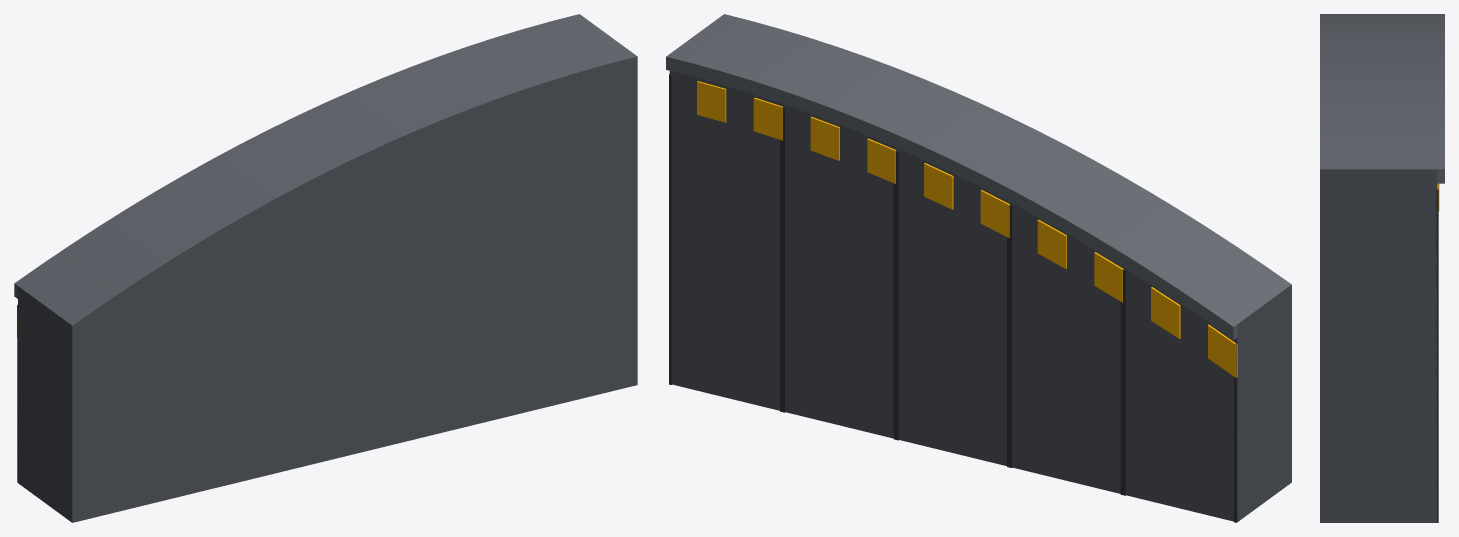
3 views of the same model, side by side, from view 1: azimuth 30°, elevation 25°; view 2: azimuth 150°, elevation 25°; view 3: azimuth 270°, elevation 25° (orthographic). The views are drawn at different scales.
Visible parts, largest first — view 1: e2w; view 2: e2w; view 3: e2w.
Part boxes in pixels (x1,y1,x2,y2): e2w: (14, 14, 637, 522); e2w: (666, 14, 1291, 522); e2w: (1320, 14, 1444, 522).
Size of the model in its own units: 9 by 5 by 1.6.
